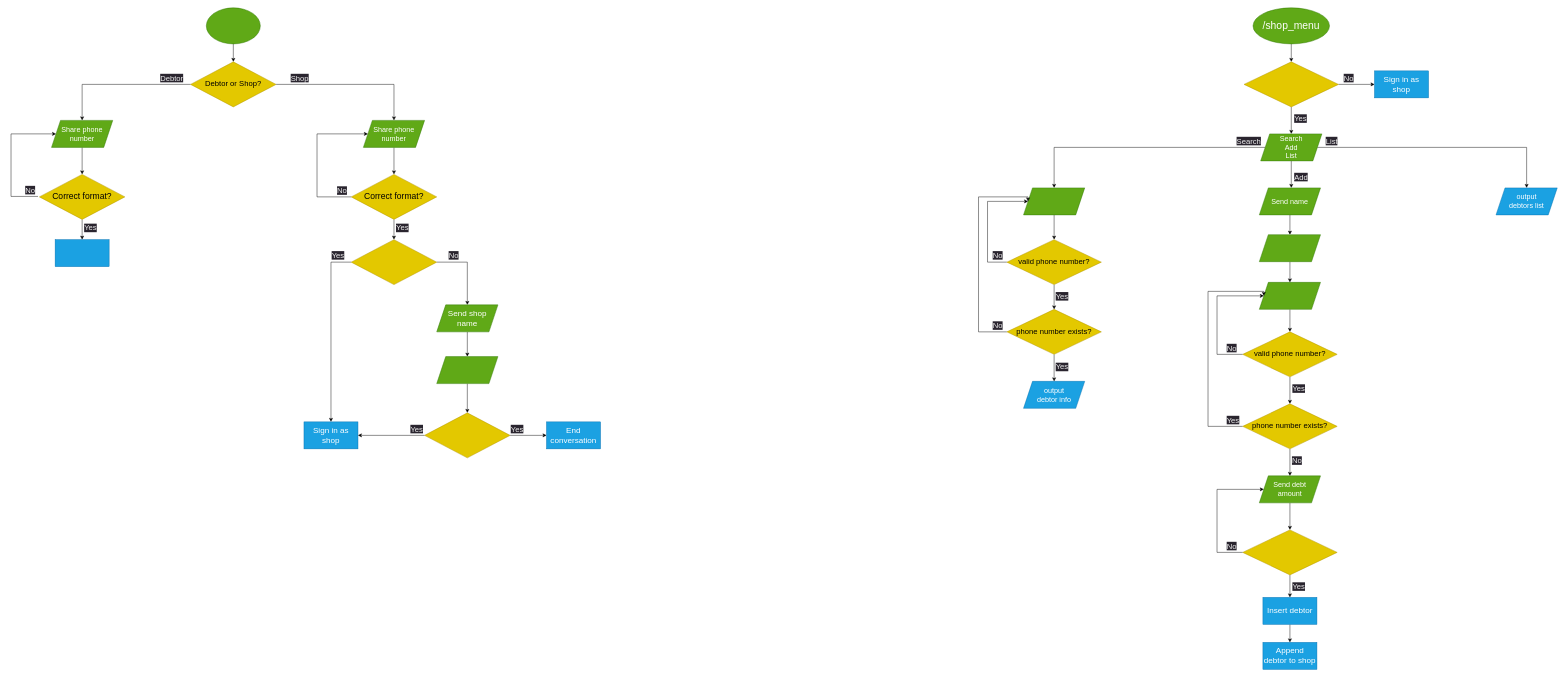
Image size: 1565x677. Some labels were removed from this diagram. Each missing label, with the centre of its shape:
/start: pixel 233 25
is shop_id assigned?: pixel 1291 84
Send nickname: pixel 1290 248
send phone: pixel 1054 201
Send phone number: pixel 1290 295
Send shop location: pixel 467 370
Shop added successfully?: pixel 467 435
Shop exists?: pixel 394 262
Sign in as debtor: pixel 82 253
valid debt amount?: pixel 1289 552
